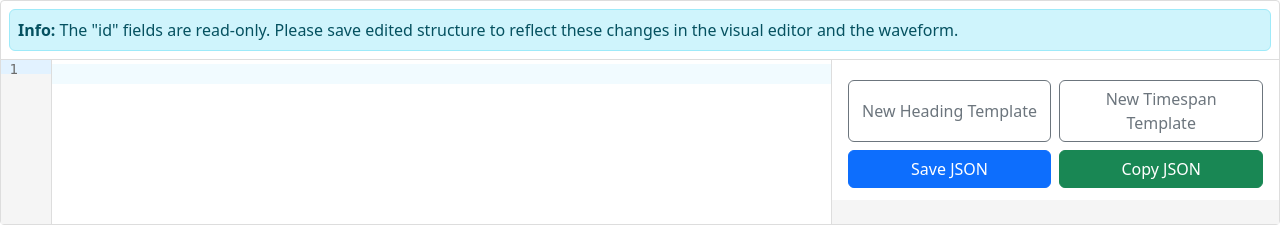
TextEditor component › has a 'Copy JSON' button that › shows success message after copying
Click the button with test id "copy-text" at (1161, 169), box left=1059, top=150, right=1263, bottom=188
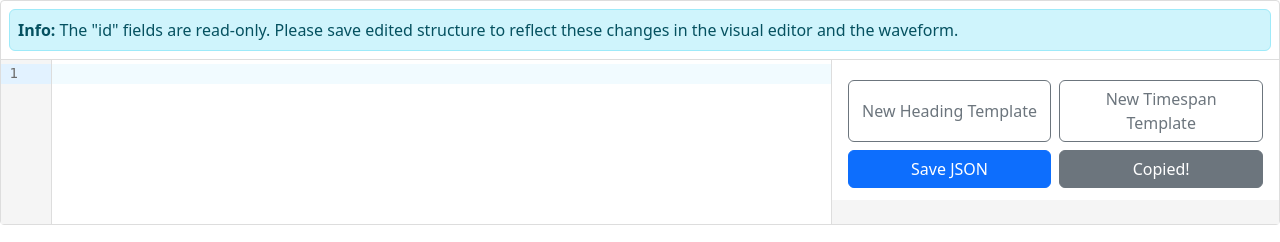
Check: the button "Copied!" is shown, box left=1059, top=150, right=1263, bottom=188
